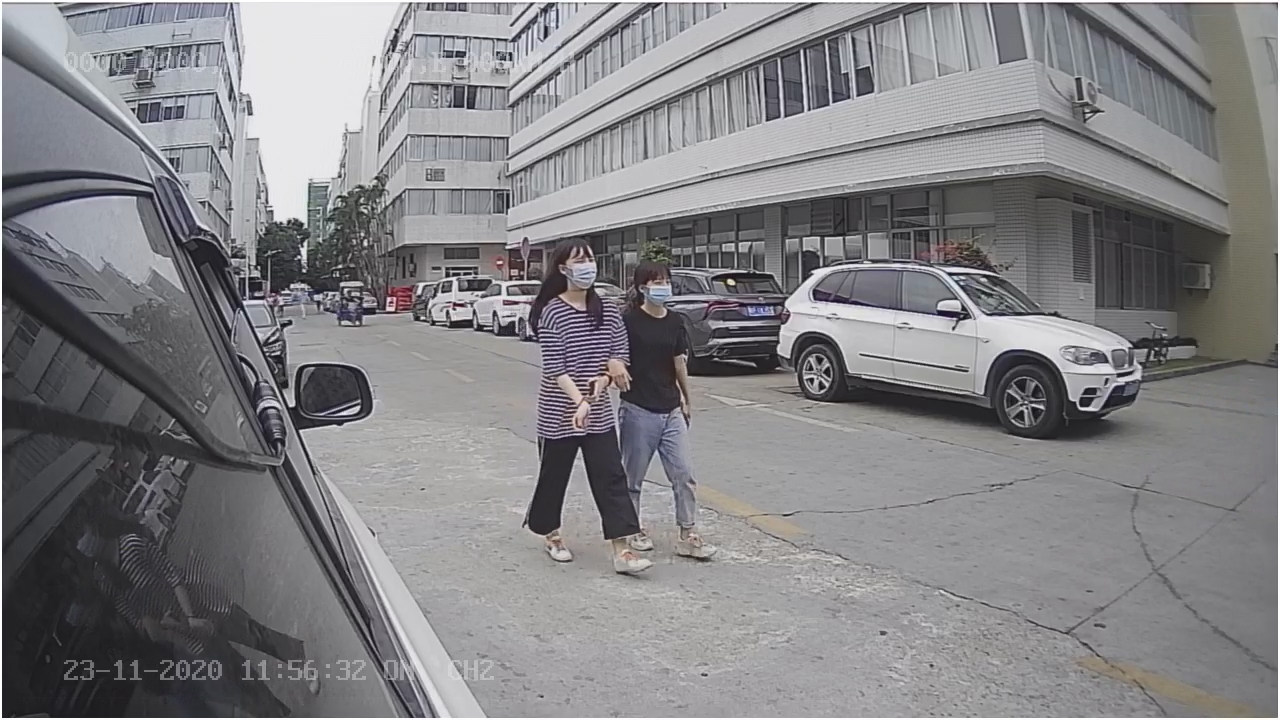person: (518, 233, 652, 580), (620, 257, 725, 560)
